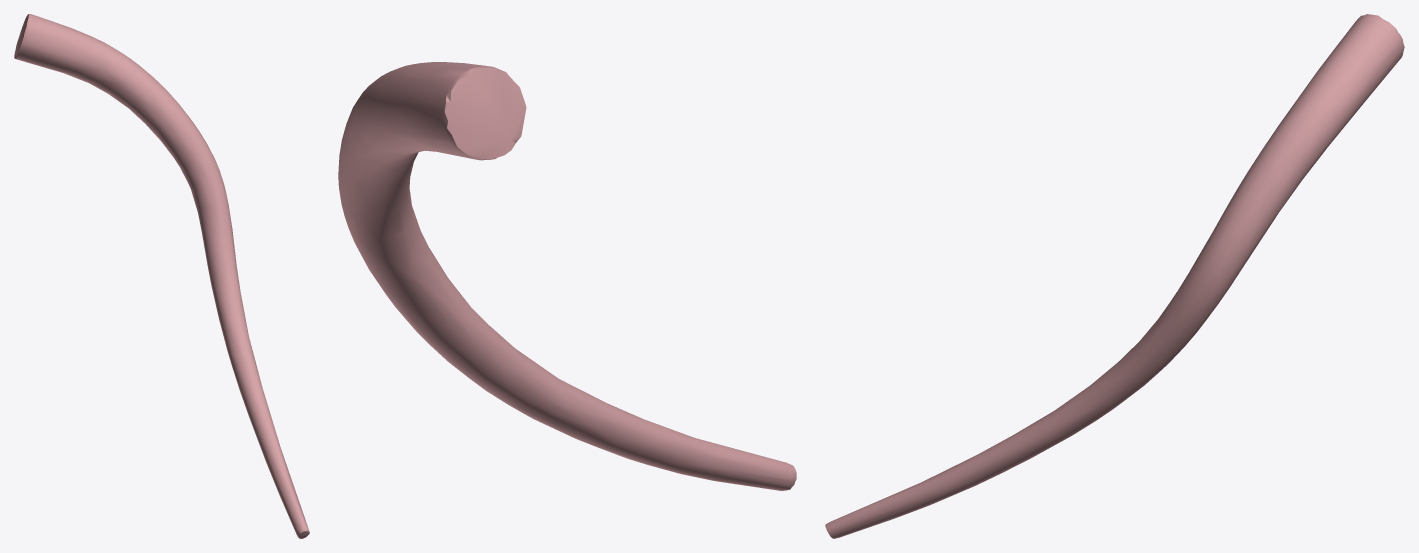
Rendered from fma68227_fj2441.glb.
The picture shows the model from 3 angles, left to right: view 1: azimuth 30°, elevation 25°; view 2: azimuth 150°, elevation 25°; view 3: azimuth 270°, elevation 25°; orthographic projection. The views are drawn at different scales.
Parts seen in each view (by area): view 1: FMA68227_FJ2441; view 2: FMA68227_FJ2441; view 3: FMA68227_FJ2441.
Part boxes in pixels (x1=…): FMA68227_FJ2441: x1=14, y1=14, x2=309, y2=538; FMA68227_FJ2441: x1=338, y1=62, x2=796, y2=490; FMA68227_FJ2441: x1=825, y1=14, x2=1404, y2=538.
Bounding box in the file's own units: 0.0383 × 0.0963 × 0.1041.
